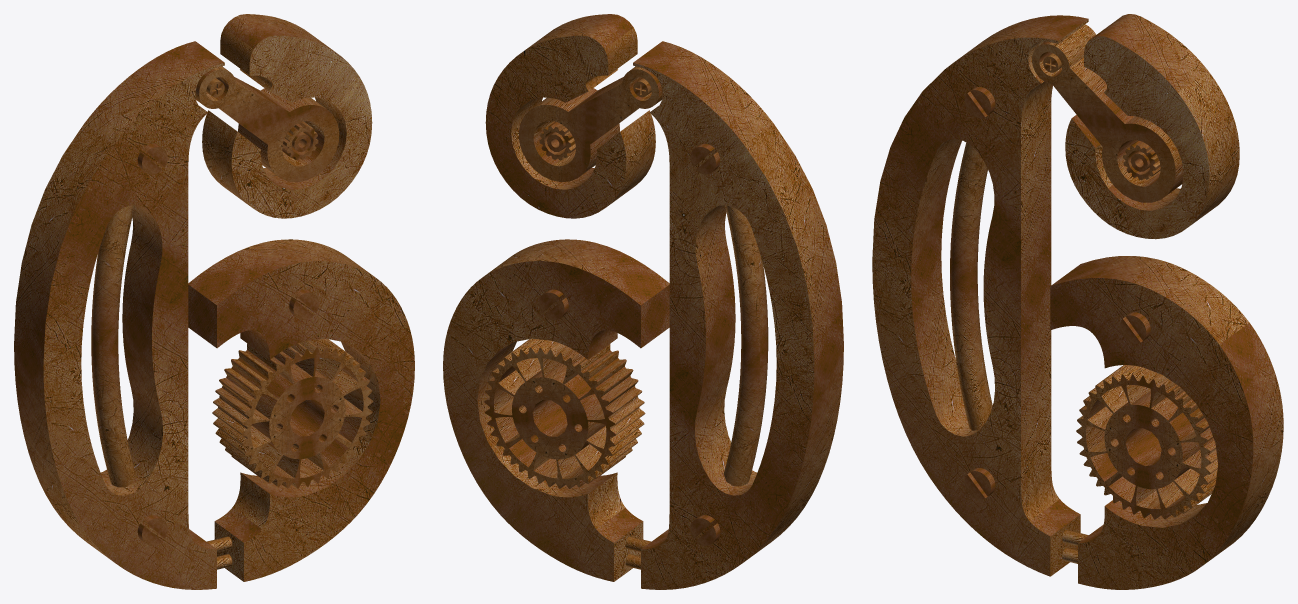
3 renders of one model, left to right at view 1: azimuth 30°, elevation 25°; view 2: azimuth 150°, elevation 25°; view 3: azimuth 330°, elevation 25°, orthographic. The views are drawn at different scales.
Visible parts, largest first — view 1: 044, 022, Cogwheel_349, Tube_583, Lever_026, Cogwheel_351, Screw_676, Screw_675, Screw_674; view 2: 044, 022, Cogwheel_349, Tube_583, Lever_026, Cogwheel_351, Screw_675, Screw_676, Screw_674; view 3: 044, 022, Cogwheel_349, Lever_026, Tube_583, Cogwheel_351, Screw_675, Screw_674, Screw_676.
Boxes of the visible parts, x1,y1,x2,y2 form: 044: (14, 41, 414, 589); 022: (202, 14, 372, 218); Cogwheel_349: (212, 338, 373, 488); Tube_583: (91, 205, 135, 487); Lever_026: (195, 66, 339, 182); Cogwheel_351: (282, 121, 318, 160); Screw_676: (137, 143, 167, 174); Screw_675: (137, 515, 167, 545); Screw_674: (289, 289, 318, 319); 044: (443, 41, 843, 589); 022: (485, 14, 655, 218); Cogwheel_349: (484, 338, 645, 488); Tube_583: (723, 205, 768, 486); Lever_026: (519, 66, 662, 182); Cogwheel_351: (539, 121, 575, 160); Screw_675: (690, 515, 720, 545); Screw_676: (690, 143, 720, 174); Screw_674: (539, 289, 568, 319); 044: (872, 15, 1283, 589); 022: (1065, 14, 1239, 239); Cogwheel_349: (1076, 365, 1217, 519); Lever_026: (1032, 24, 1183, 202); Tube_583: (950, 143, 992, 430); Cogwheel_351: (1123, 140, 1160, 180); Screw_675: (964, 468, 995, 499); Screw_674: (1120, 312, 1150, 343); Screw_676: (964, 87, 995, 118).
Bounding box in the file's own units: 72.76 × 101 × 12.89.
1 material, 1 textured.
